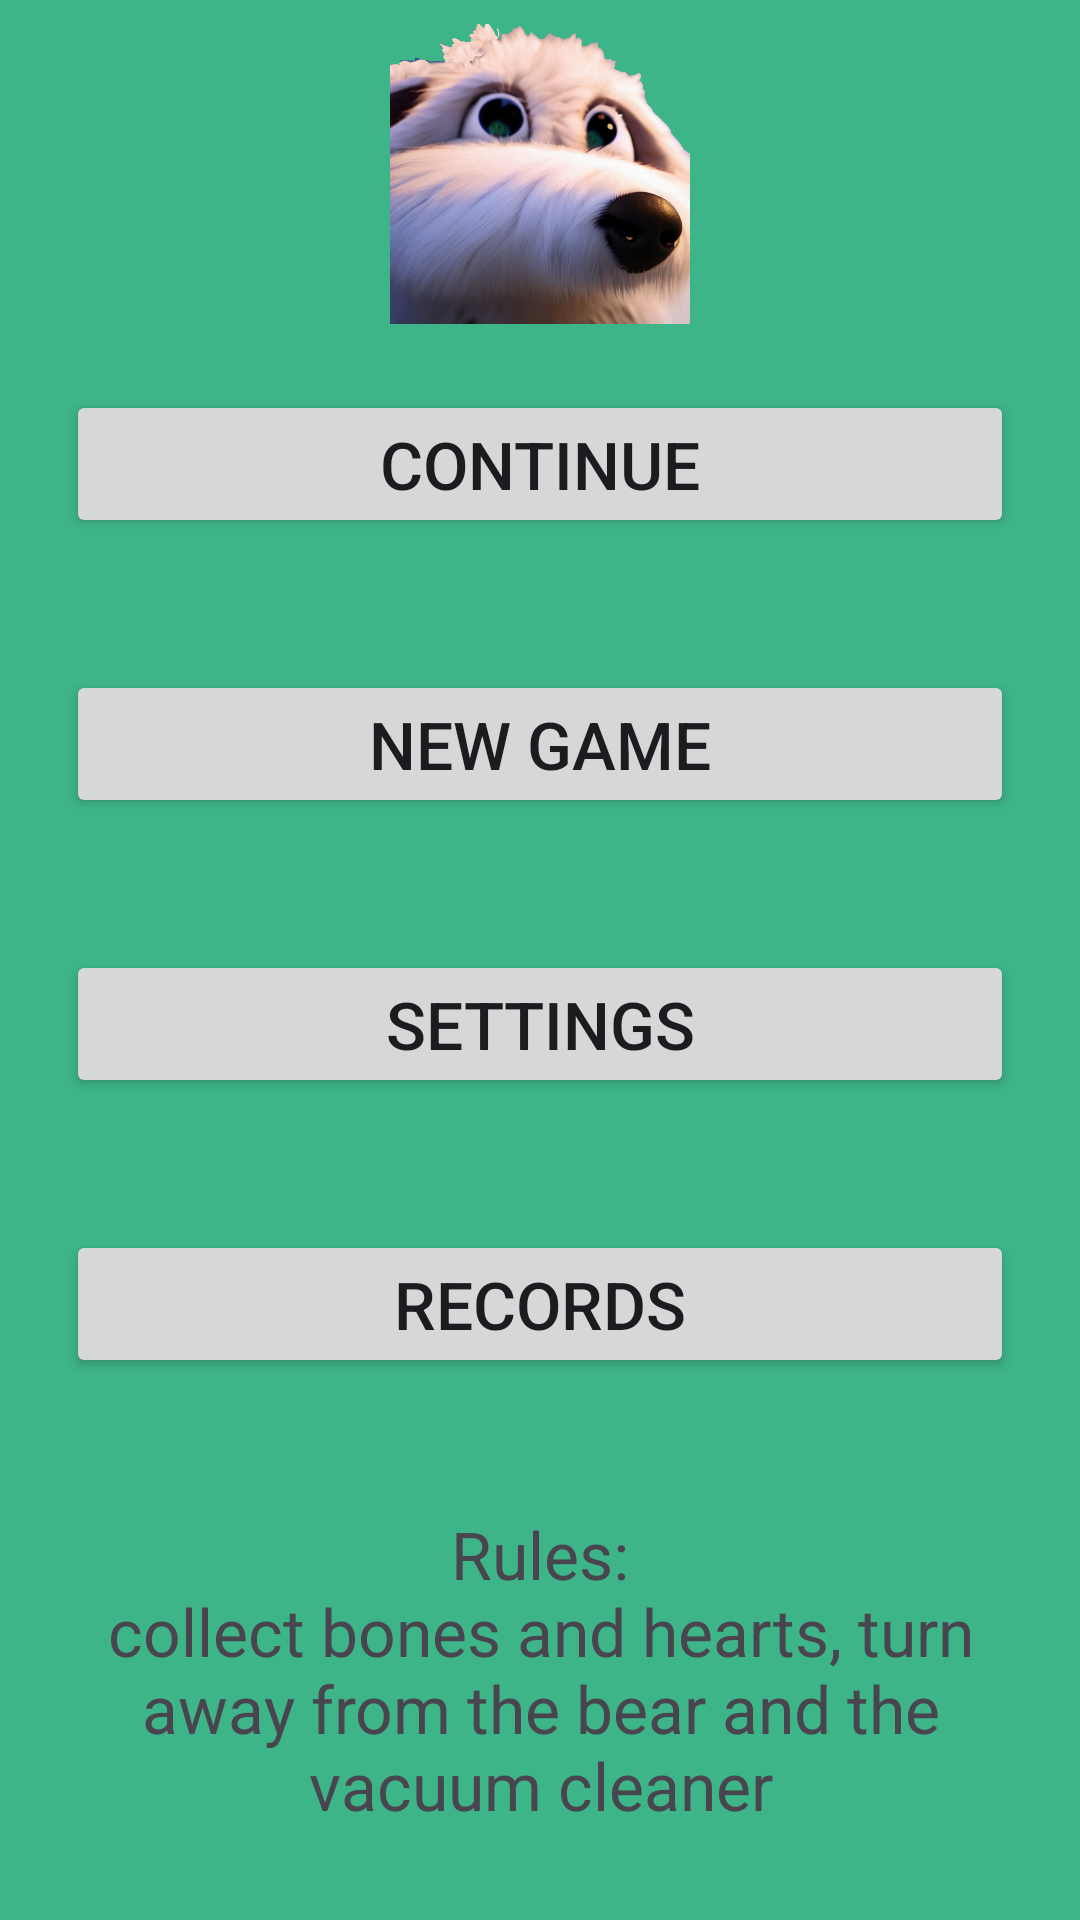

Point at icon controls on the screen. Image size 1080*1920, points as [x,y].
dog: [540,174]
